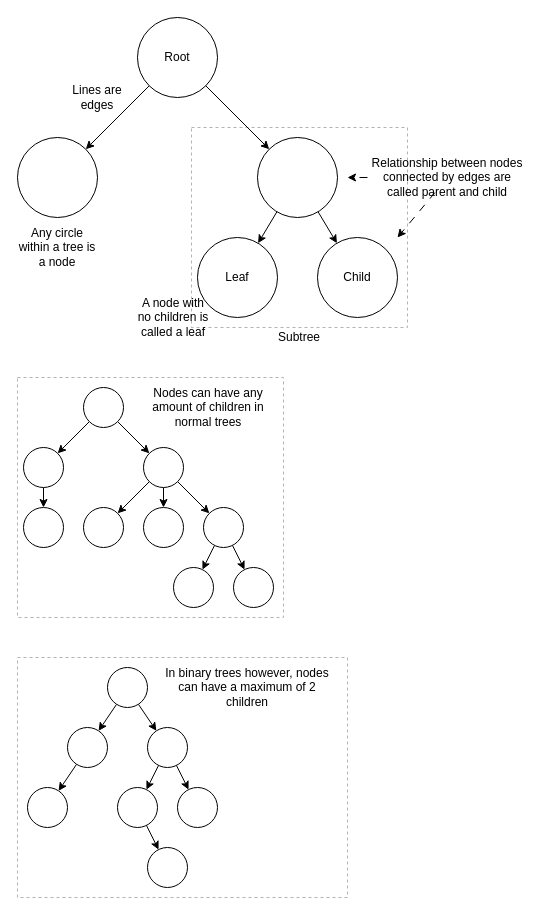
This 545x915 diagram has some shape labels left out. Here are the shapes that lost their labels. From the top down, the box of each, then its label:
(16, 136, 98, 218): Node
(256, 136, 338, 218): Parent
